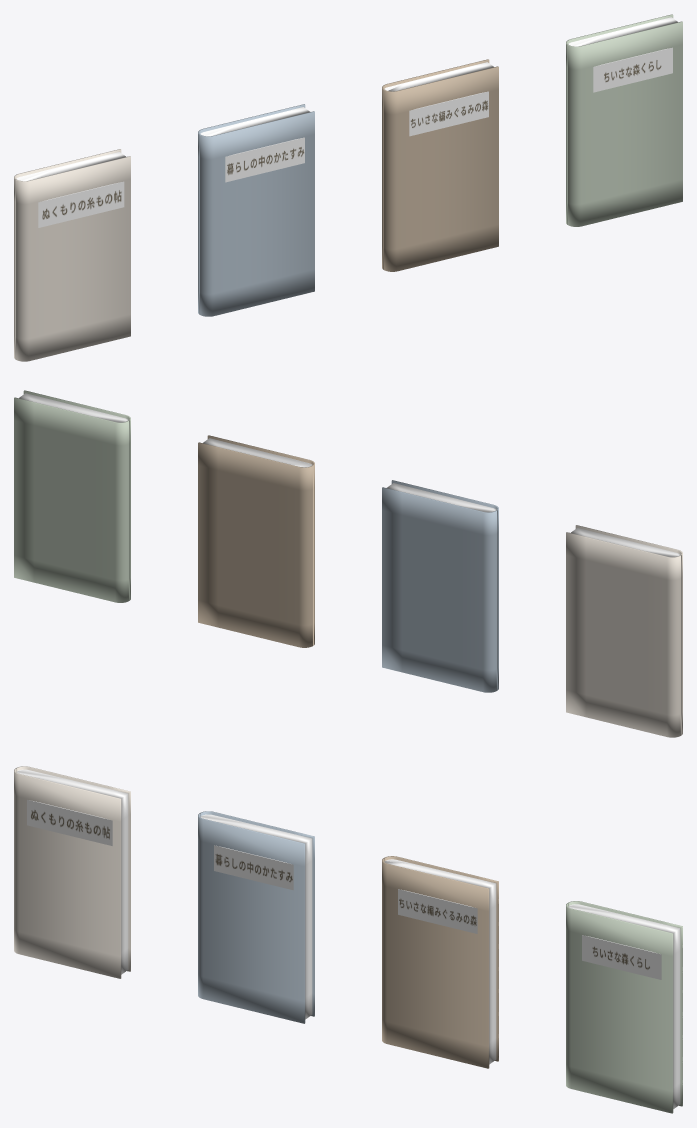
The model's file is books.glb.
3 views of the same model, one above another, from view 1: azimuth 30°, elevation 25°; view 2: azimuth 150°, elevation 25°; view 3: azimuth 330°, elevation 25° (orthographic).
Visible parts, largest first — view 1: t-book, k-book, n-book, s-book; view 2: t-book, s-book, k-book, n-book; view 3: t-book, s-book, k-book, n-book.
Boxes of the visible parts, x1=… form: t-book: x1=382, y1=59, x2=498, y2=271; k-book: x1=198, y1=104, x2=314, y2=316; n-book: x1=14, y1=149, x2=130, y2=361; s-book: x1=566, y1=14, x2=682, y2=226; t-book: x1=198, y1=435, x2=314, y2=647; s-book: x1=14, y1=390, x2=130, y2=602; k-book: x1=382, y1=480, x2=498, y2=692; n-book: x1=566, y1=525, x2=682, y2=737; t-book: x1=382, y1=856, x2=498, y2=1068; s-book: x1=566, y1=901, x2=682, y2=1113; k-book: x1=198, y1=811, x2=314, y2=1023; n-book: x1=14, y1=766, x2=130, y2=978.
Bounding box in the file's own units: 1.08 × 0.28 × 0.0313.
Materials: 9 (4 with a texture image).
